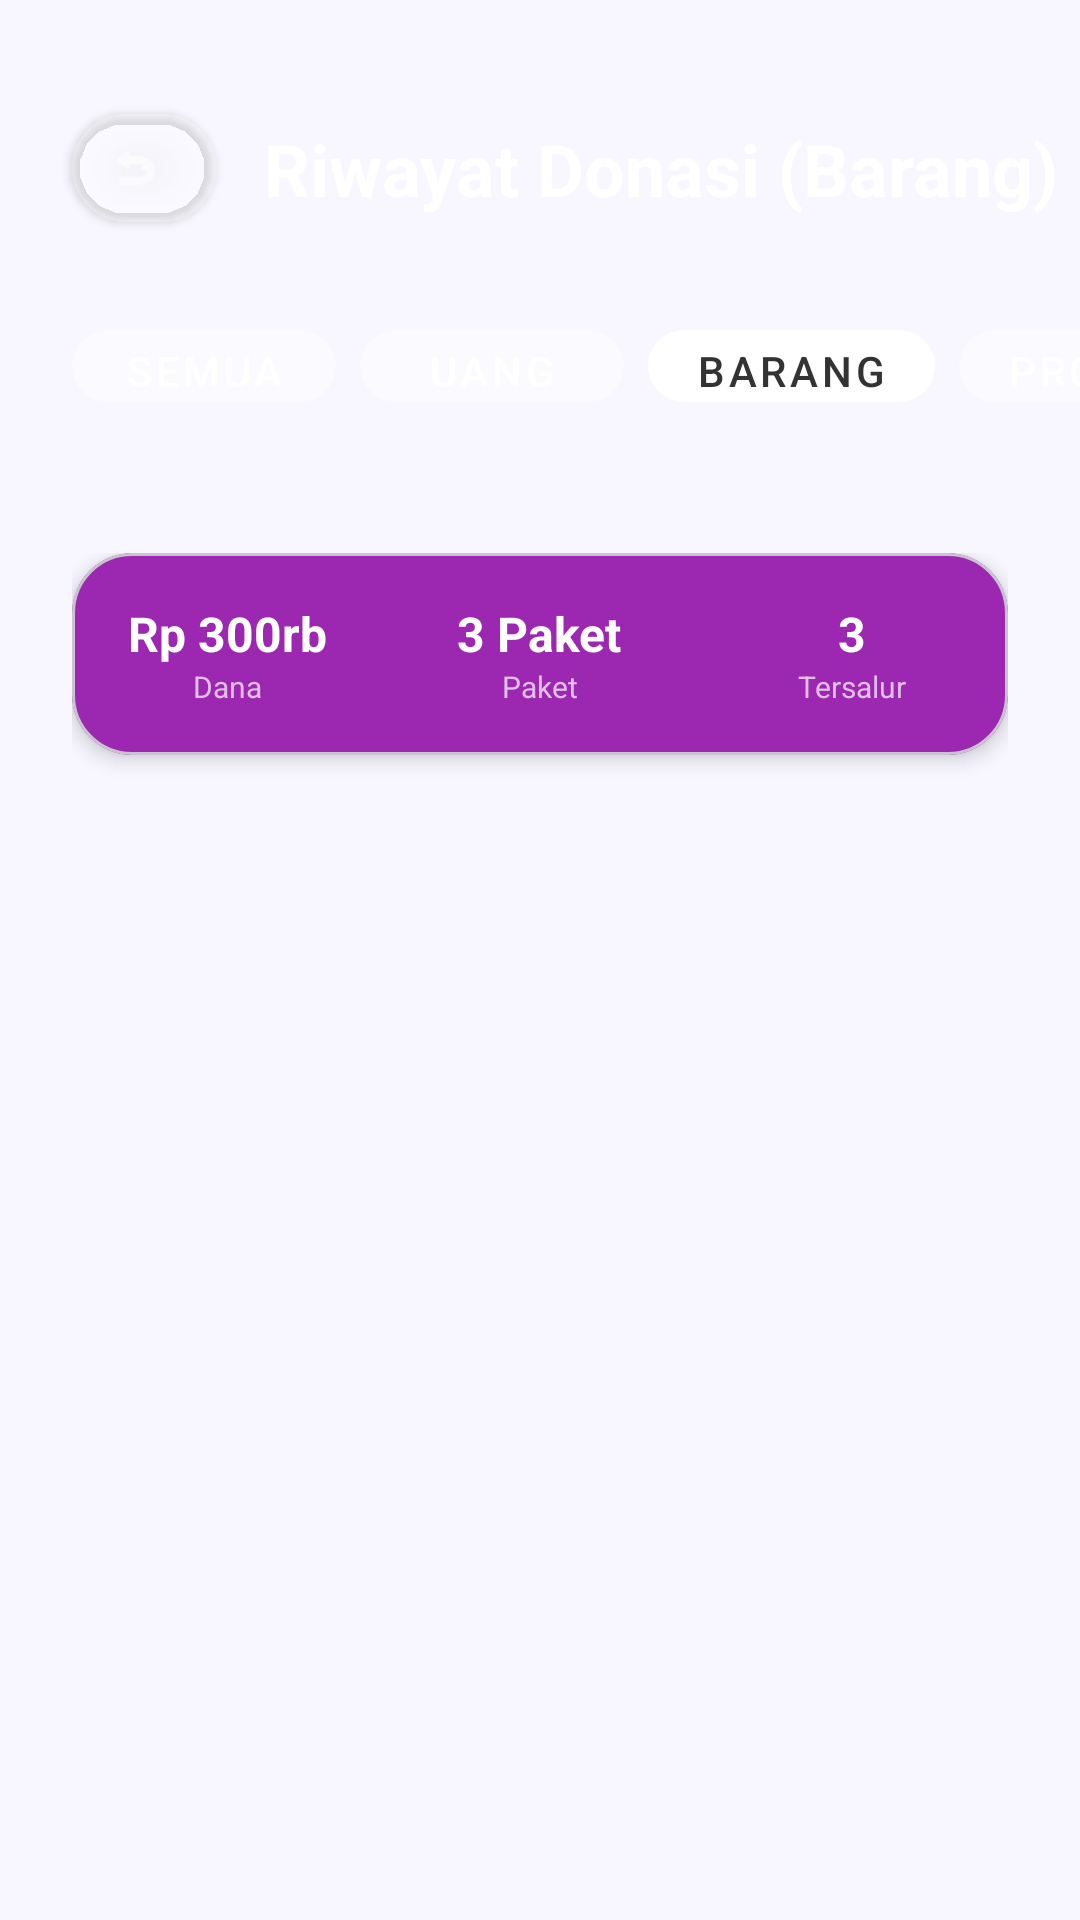

Screen size 1080x1920. Icon name, then its box in pixels as (x1, y1, x2, y2):
revert: (72, 120, 209, 218)
